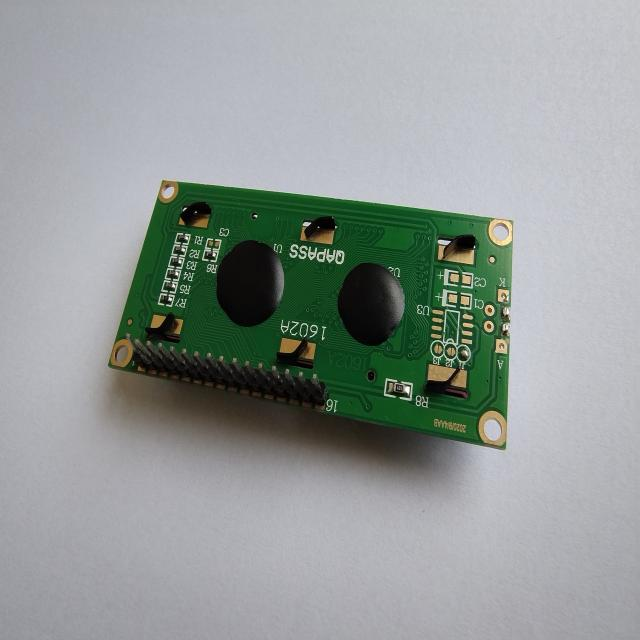lcd: (98, 165, 524, 467)
